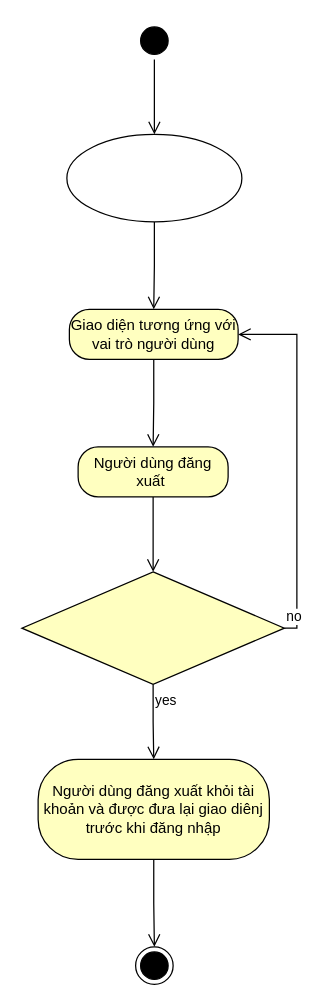
This 331x1006 diagram has some shape labels left out. The shapes that lost their labels are listed below. From the top down, each one's box as (x1, y1, x2, y2) in pixels, then its label:
(66, 133, 242, 222): Đăng Nhập
(21, 571, 284, 684): Người dùng đồng ý đăng xuất ?
